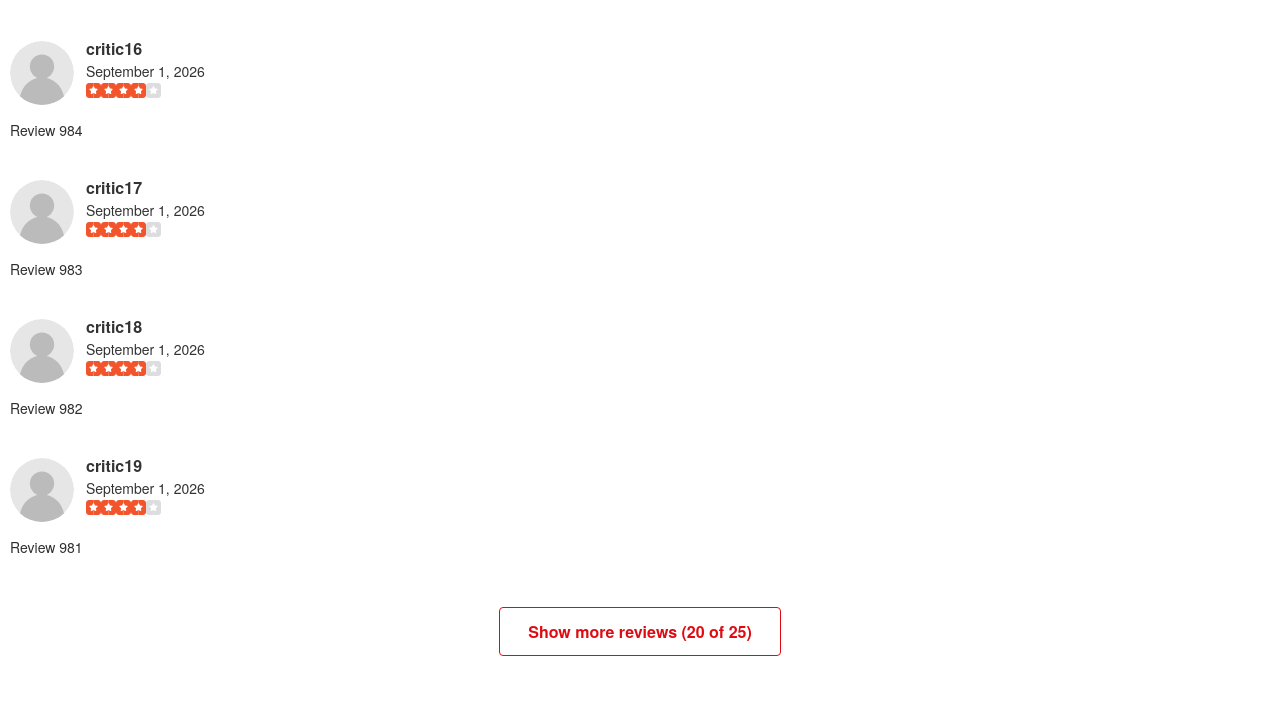
Test: a Show more that answers after the sort changed is dropped
(page scrolled)
Click the button "Show more reviews (20 of 25)": (640, 631) [499,607,781,656]
(page scrolled)
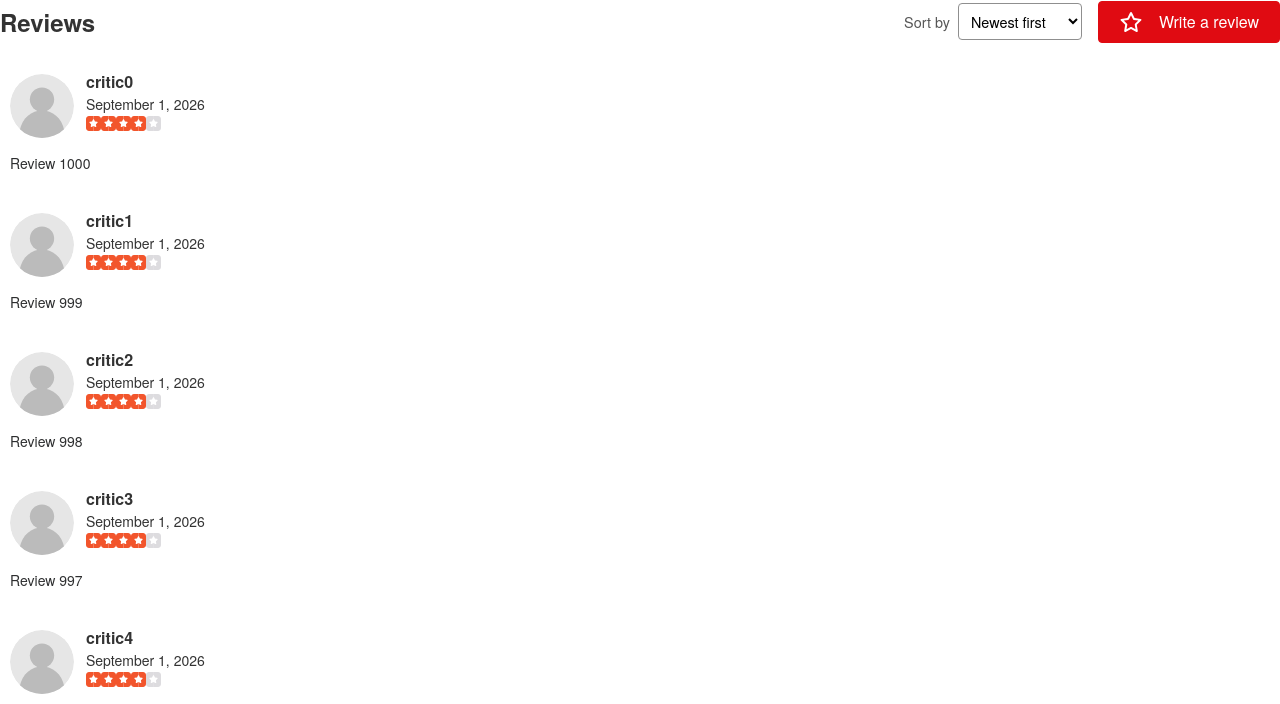
Select "Highest rated" in the dropdown: (1020, 22) [958,3,1082,40]
(page scrolled)
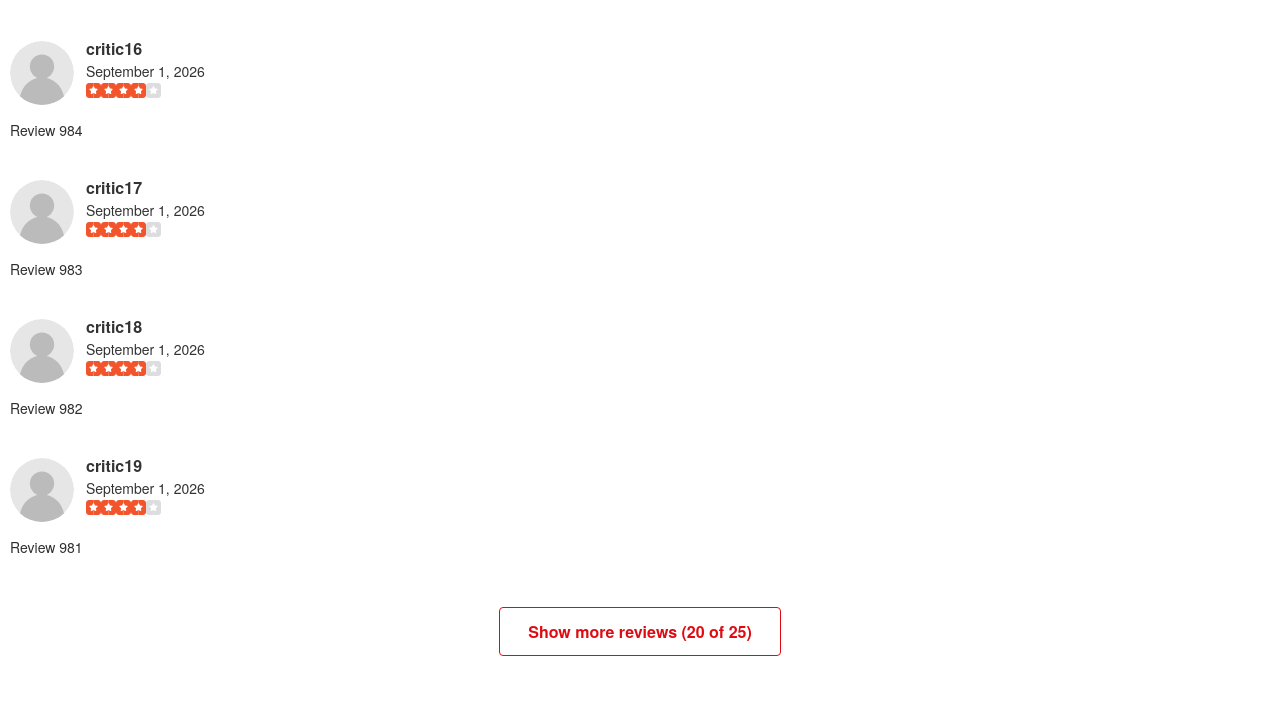
Check: the button "Show more reviews (20 of 25)" is enabled, box [499,607,781,656]
